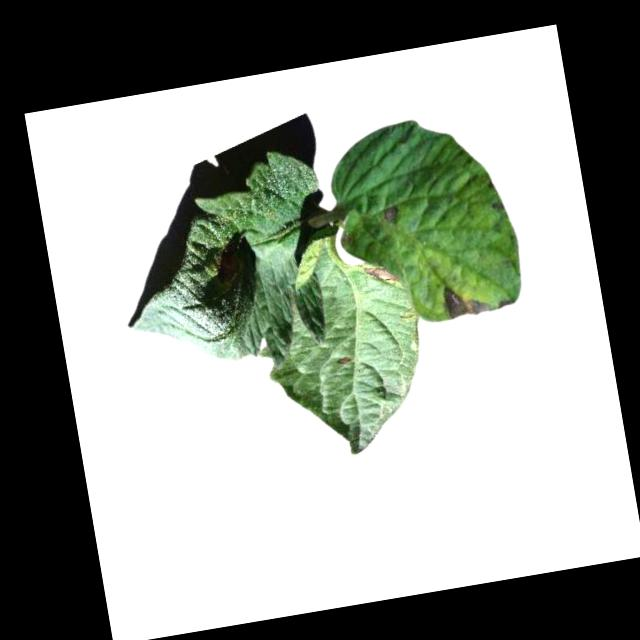Early_blight: (442, 275, 514, 321), (362, 260, 403, 292), (381, 204, 402, 228), (335, 354, 353, 368)
